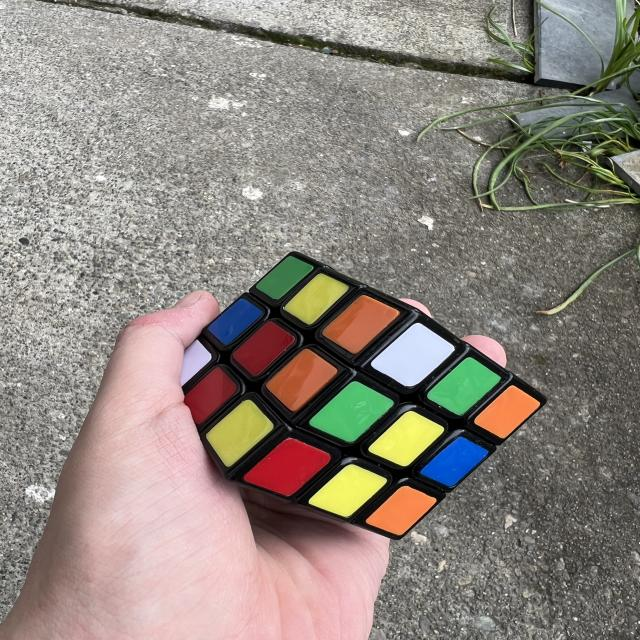blue: (418, 428, 490, 497), (206, 292, 265, 349)
center: (366, 400, 446, 479), (230, 314, 298, 381)
green: (306, 369, 396, 456), (425, 349, 502, 425), (253, 247, 315, 307)
orange: (320, 283, 401, 363), (263, 341, 340, 416), (364, 474, 438, 548), (472, 378, 542, 447)
red: (241, 423, 334, 513), (230, 314, 298, 381), (176, 363, 241, 427)
white: (369, 313, 456, 399), (164, 338, 214, 387)
yellow: (307, 451, 389, 531), (366, 400, 446, 479), (200, 395, 276, 469), (281, 264, 351, 332)
